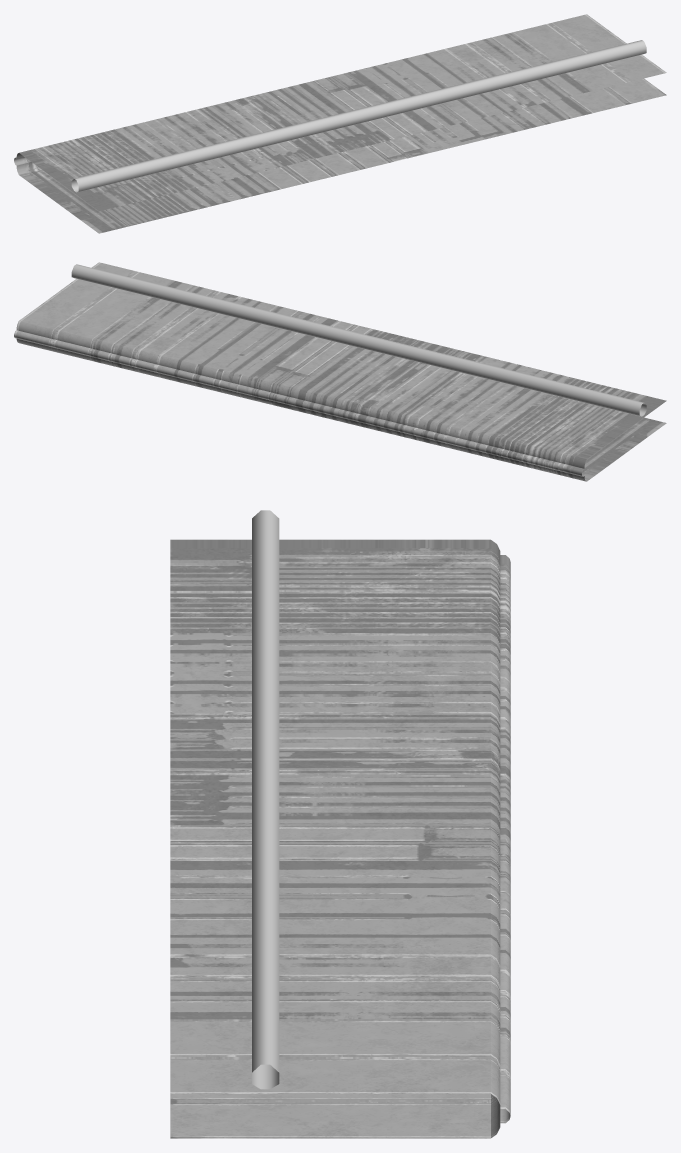
File: SM_Building03_Canopy02R.fbx
3 renders of one model, top to bottom at view 1: azimuth 30°, elevation 25°; view 2: azimuth 150°, elevation 25°; view 3: azimuth 270°, elevation 25°, orthographic. The views are drawn at different scales.
Visible parts, largest first — view 1: SM_Building03_Canopy02R_LOD0; view 2: SM_Building03_Canopy02R_LOD0; view 3: SM_Building03_Canopy02R_LOD0.
Part boxes in pixels (x1,y1,x2,y2): SM_Building03_Canopy02R_LOD0: [14, 14, 666, 233]; SM_Building03_Canopy02R_LOD0: [14, 262, 666, 481]; SM_Building03_Canopy02R_LOD0: [170, 510, 510, 1138].
Bounding box in the file's own units: 400 × 104 × 24.84.
